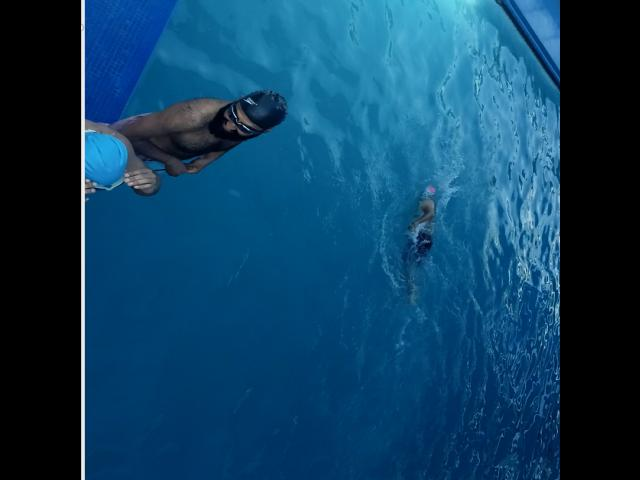out of water: (125, 90, 292, 178), (80, 117, 160, 203)
swimming: (400, 188, 444, 308)
